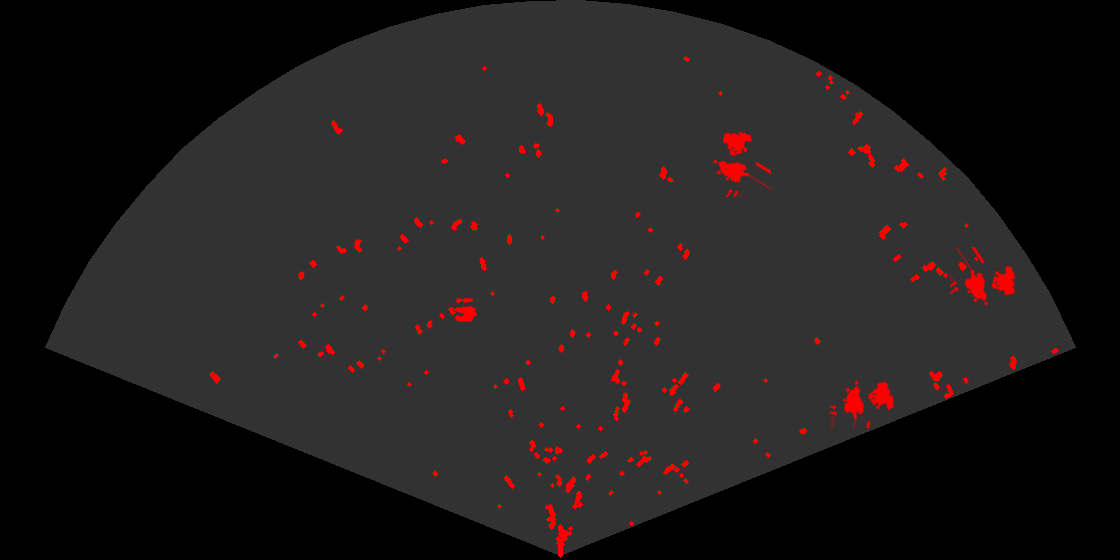ball: (452, 297, 478, 323)
cage: (950, 247, 1017, 307), (712, 130, 771, 197), (830, 379, 896, 428)
